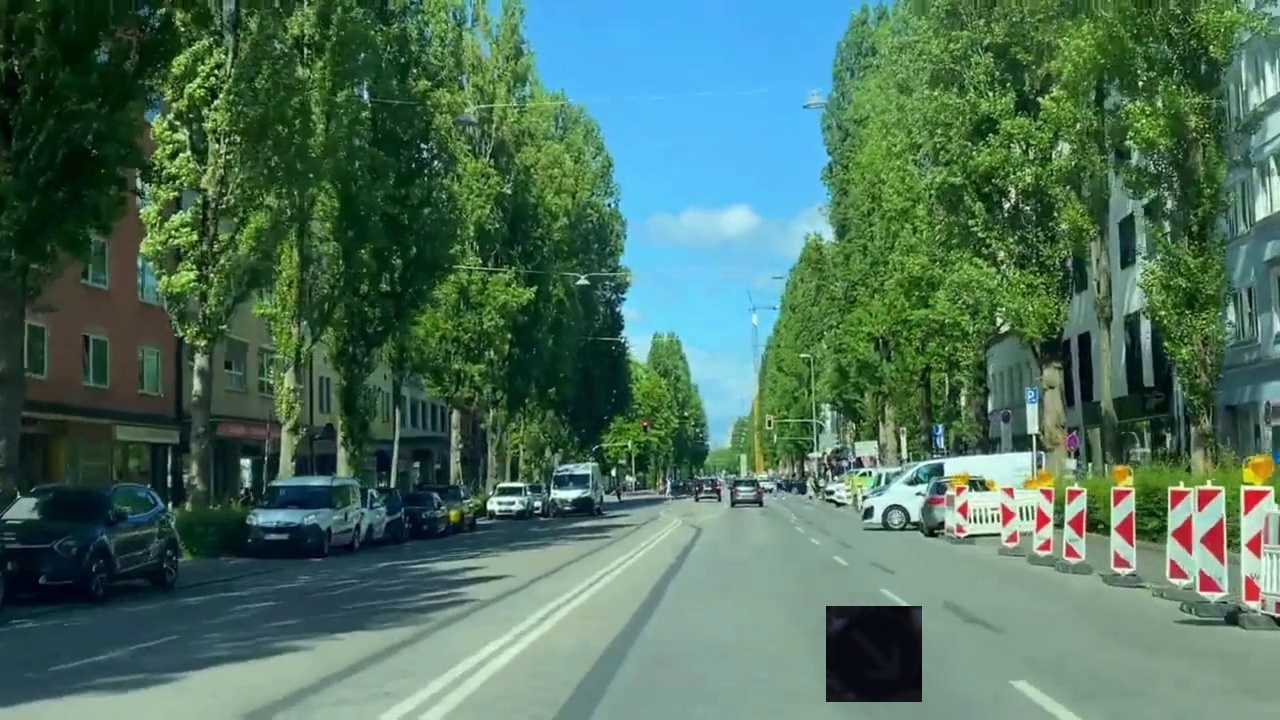Keep right: (826, 606, 922, 702)
